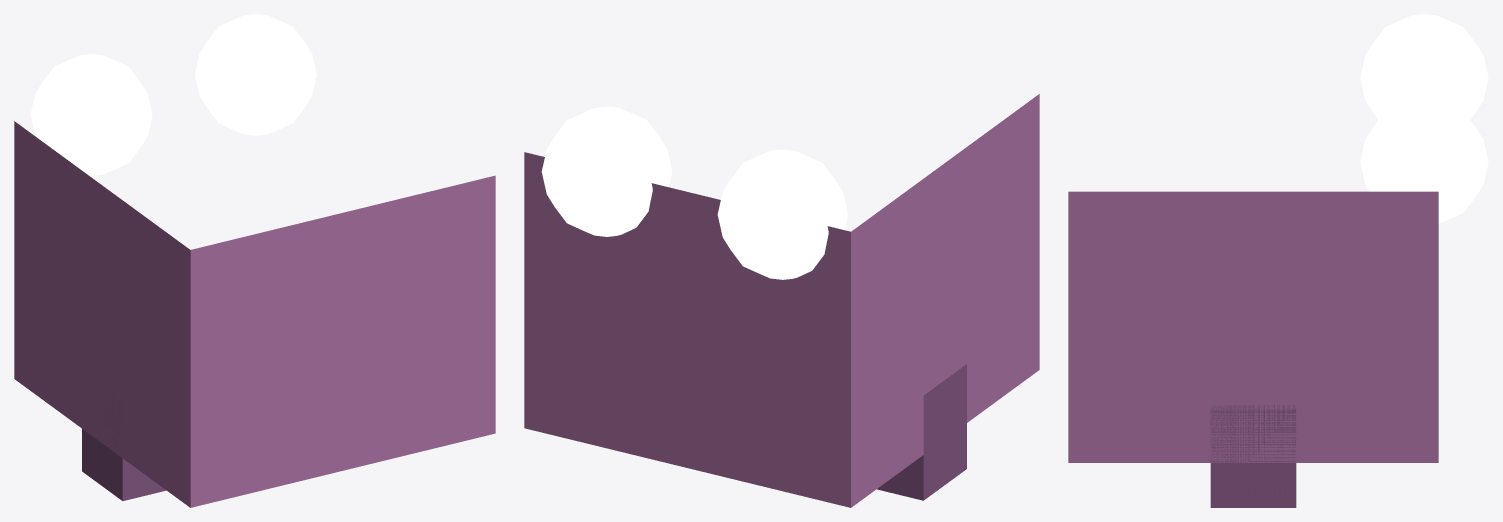
The model's file is model.enemy.glb.
3 views of the same model, side by side, from view 1: azimuth 30°, elevation 25°; view 2: azimuth 150°, elevation 25°; view 3: azimuth 270°, elevation 25° (orthographic). The views are drawn at different scales.
Parts seen in each view (by area): view 1: enemy; view 2: enemy; view 3: enemy.
Part boxes in pixels (<box>): enemy: <box>14,14,495,507</box>; enemy: <box>524,94,1039,507</box>; enemy: <box>1068,14,1488,507</box>.
Bounding box in the file's own units: 0.52 × 0.5698 × 0.5901.
